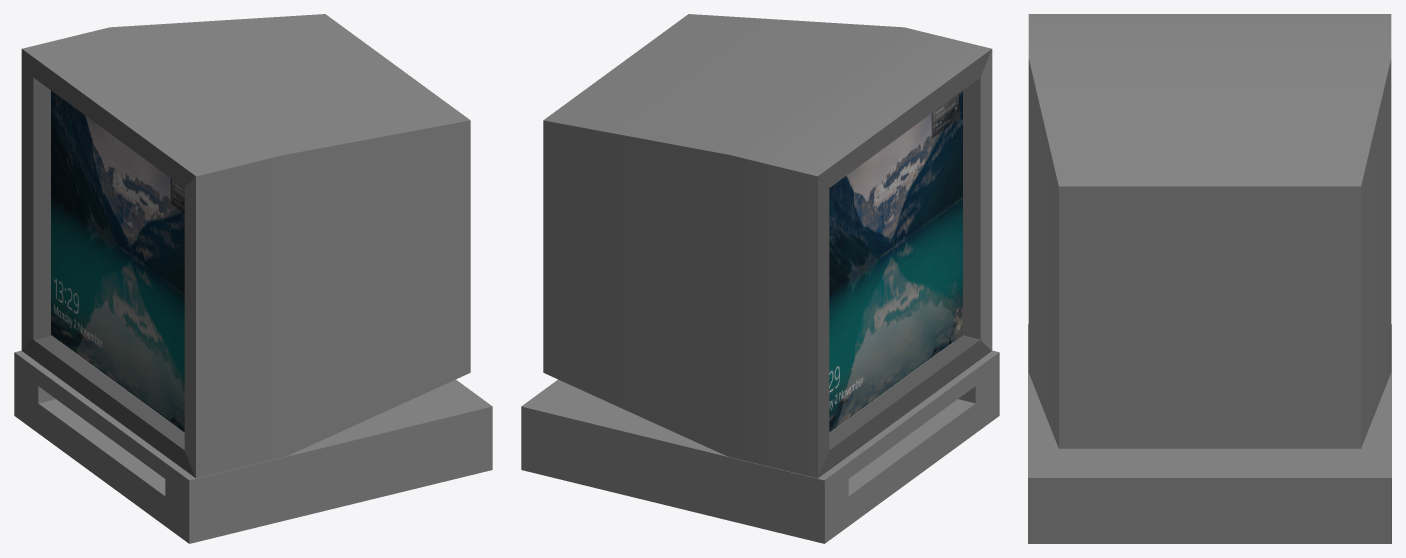
File: comp_FBX.fbx
The picture shows the model from 3 angles, left to right: view 1: azimuth 30°, elevation 25°; view 2: azimuth 150°, elevation 25°; view 3: azimuth 270°, elevation 25°; orthographic projection. The views are drawn at different scales.
Visible parts, largest first — view 1: comp, stand; view 2: comp, stand; view 3: comp, stand.
Boxes of the visible parts, x1,y1,x2,y2 form: comp: [21, 14, 470, 478]; stand: [14, 342, 492, 543]; comp: [543, 14, 992, 478]; stand: [521, 342, 999, 543]; comp: [1028, 14, 1391, 448]; stand: [1028, 324, 1391, 543].
Bounding box in the file's own units: 0.4196 × 0.4833 × 0.4196.
Materials: 2 (2 with a texture image).
